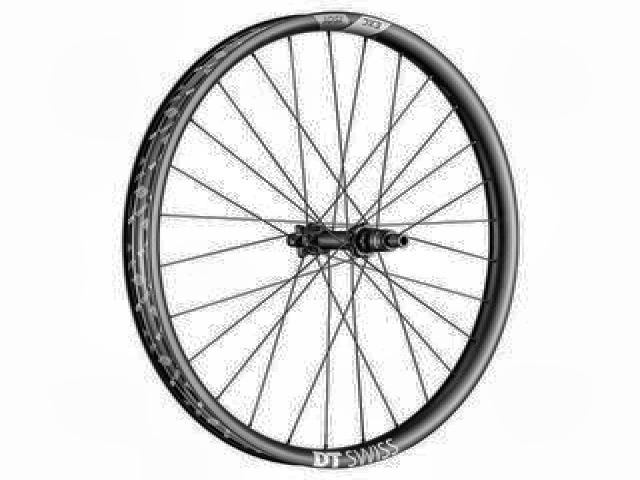wheel: (121, 9, 526, 467)
